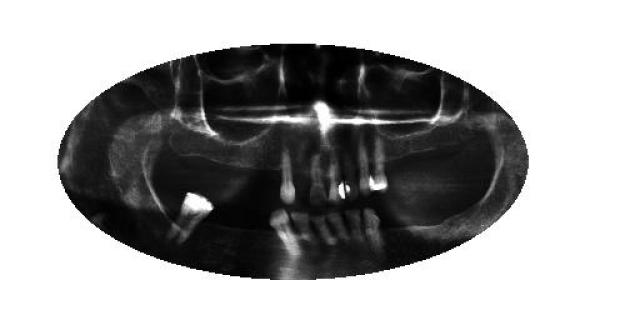Fillings: (328, 151, 347, 209), (372, 136, 388, 195)
